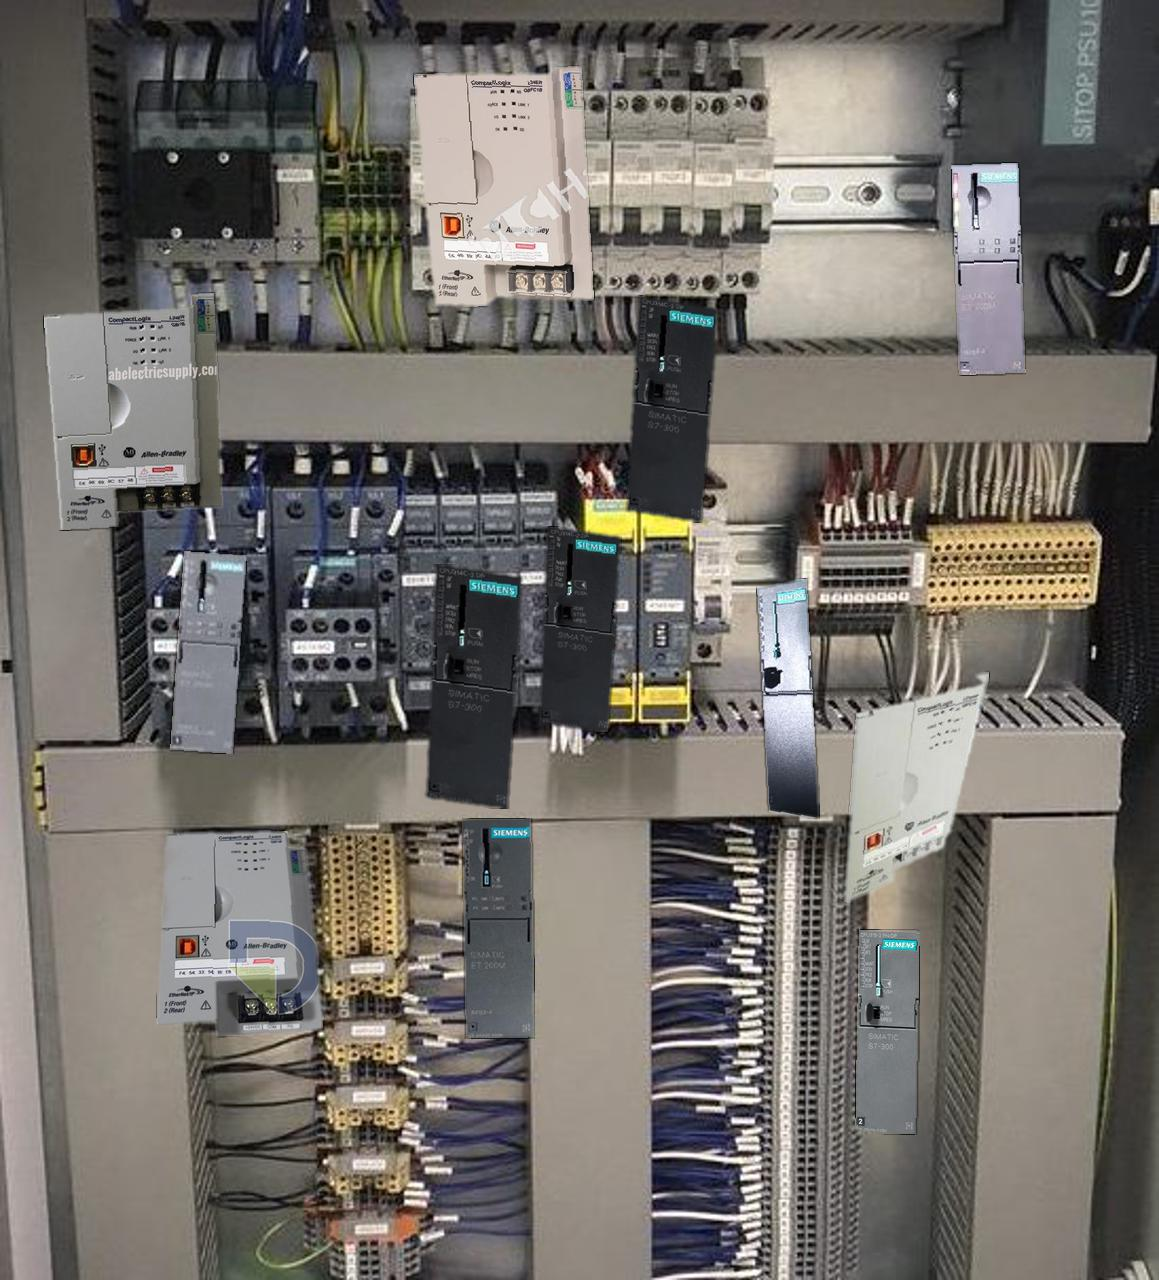AllenBradley: (414, 67, 593, 306), (44, 293, 221, 529), (156, 831, 322, 1035), (846, 672, 988, 901)
Siemens: (426, 564, 521, 808), (627, 295, 717, 521), (539, 527, 620, 731), (757, 579, 818, 817), (854, 929, 919, 1134)
